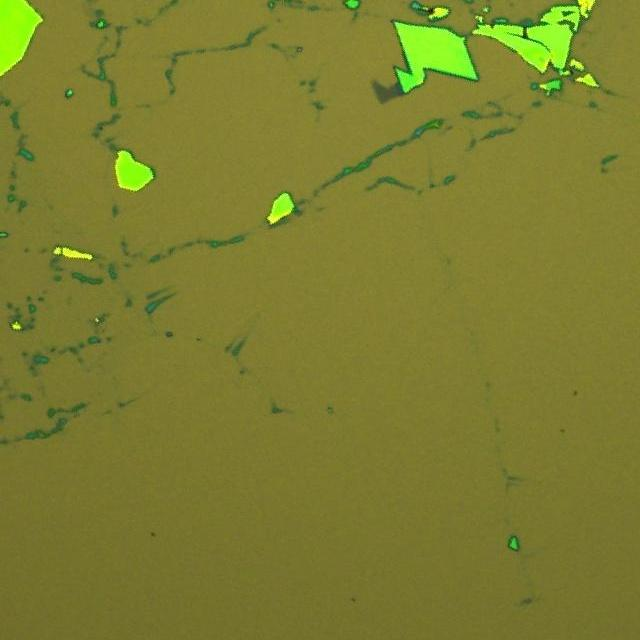monolayer-eWW4: (371, 78, 401, 105)
